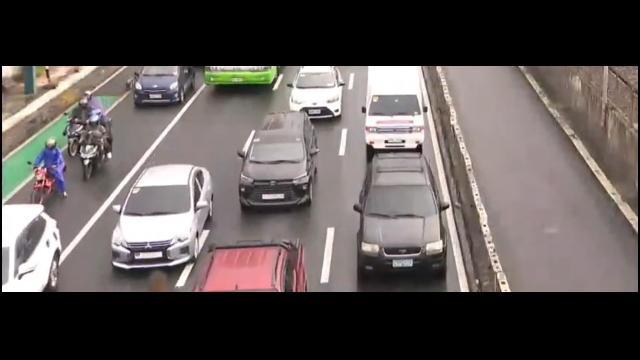bus: (192, 65, 280, 91)
car: (353, 154, 450, 276), (110, 164, 213, 268), (237, 112, 319, 210), (0, 203, 68, 291), (287, 64, 345, 117), (133, 66, 194, 105)
motorcycle: (73, 108, 111, 177), (29, 138, 68, 204), (65, 87, 101, 155)
pickup-truck: (192, 238, 307, 293)
van: (361, 67, 428, 151)
